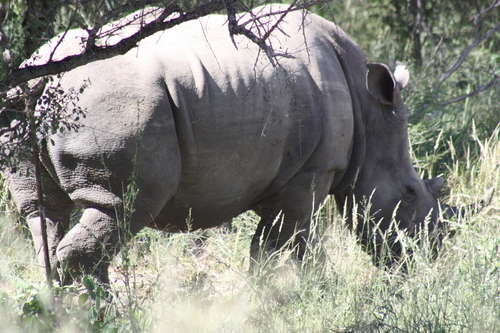rhinoceros: (4, 11, 500, 319)
